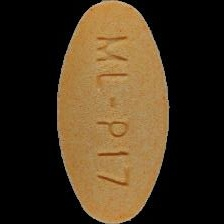67253-381: (0, 0, 224, 224)
